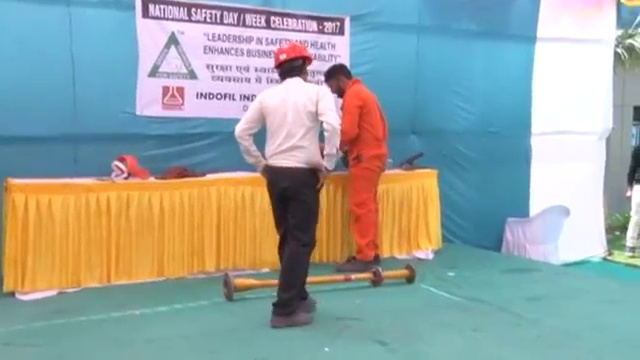helmet: (272, 42, 313, 72)
helmet_off: (318, 62, 356, 99)
helmet_on: (272, 42, 312, 84)
person: (234, 41, 343, 337), (316, 60, 388, 270), (627, 142, 640, 263)
